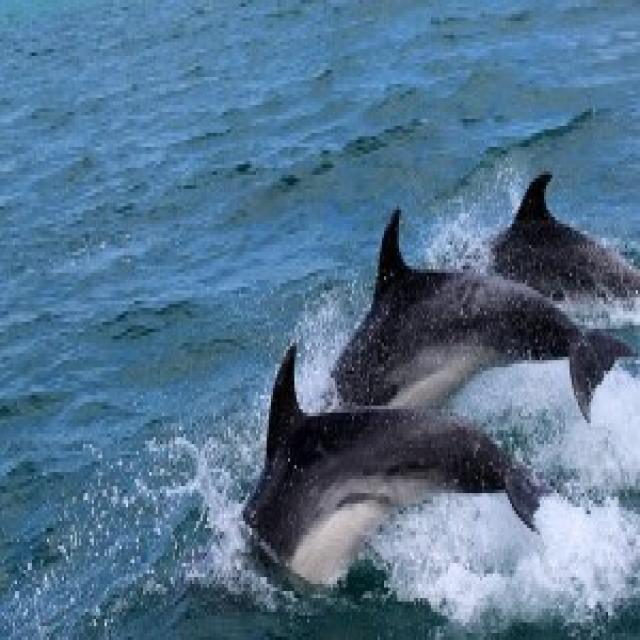Dolphin: (244, 346, 548, 640), (322, 208, 564, 434), (476, 169, 640, 291)
